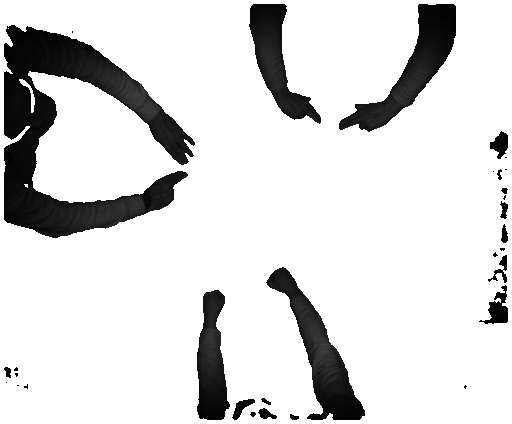fist: (264, 264, 309, 295), (200, 288, 228, 318)
hand: (153, 113, 199, 169), (338, 98, 398, 135), (273, 91, 325, 127), (148, 172, 191, 215)
